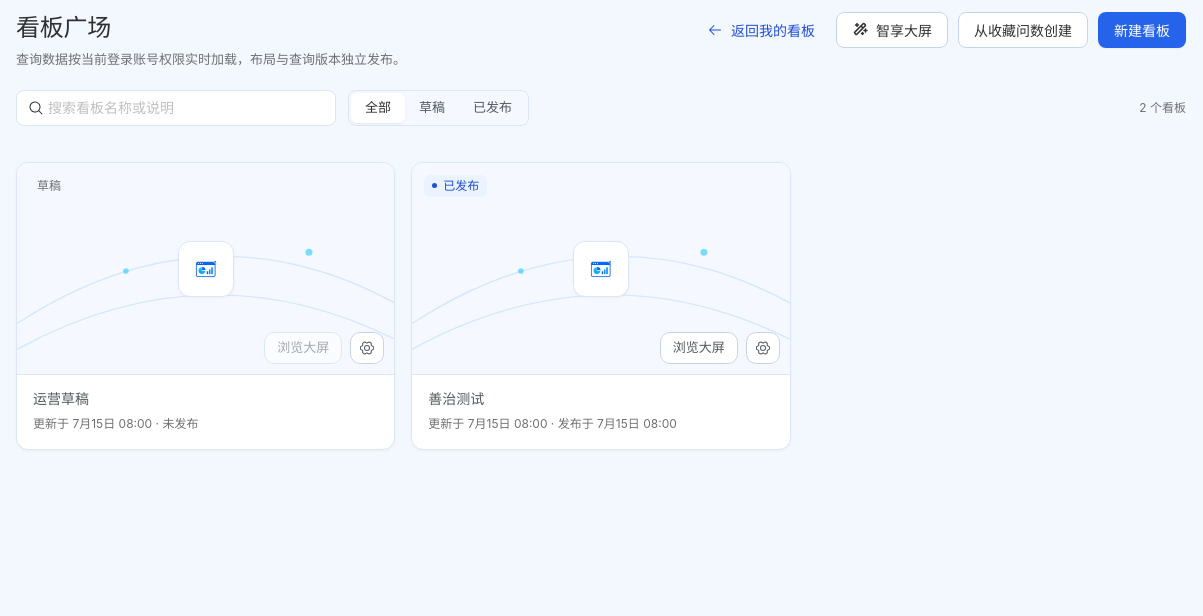
DashboardSquarePage › renders saved dashboards as management cards
The width and height of the screenshot is (1203, 616).
Expected: the element "运营草稿" is shown, [16,162,395,450]
Expected: the 2nd text "草稿" is shown, [29,175,69,197]
Click the button named "善治测试 设置" at (763, 348), box [746,332,780,364]
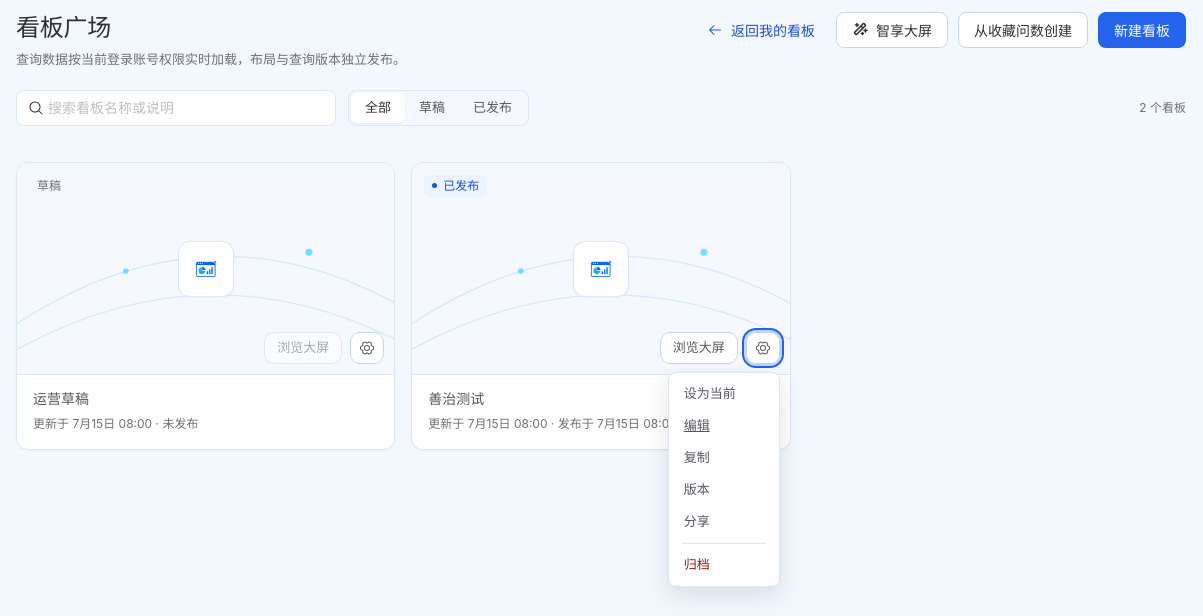
Now the menu item "设为当前" is shown, box [674,378,774,410]
Now the menu item "编辑" is shown, box [684,417,710,433]
Now the menu item "复制" is shown, box [674,442,774,474]
